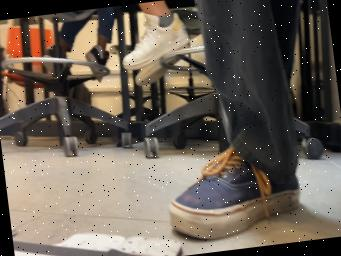street: (13, 241, 146, 256)
